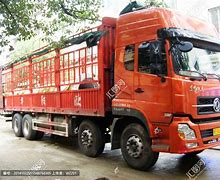bigtruck: (0, 14, 219, 164)
